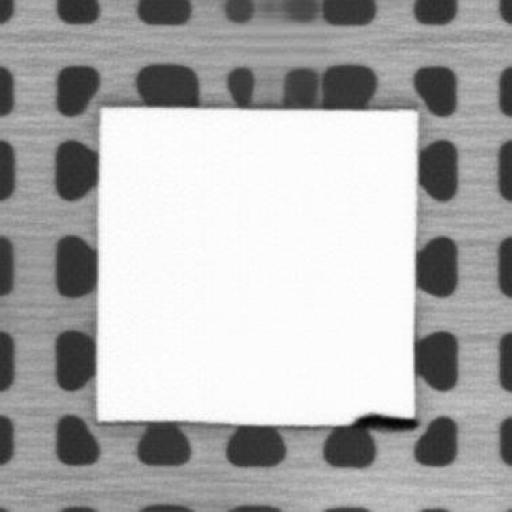DIE_BROKEN: (348, 409, 416, 430)
